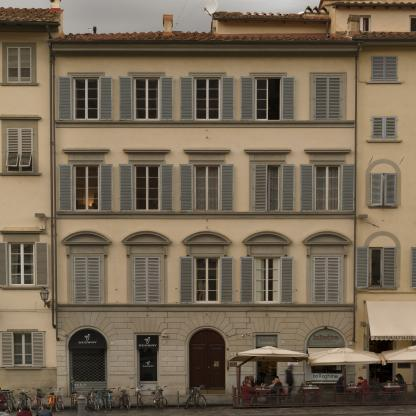Building Outline: (47, 14, 364, 398)
Cornice: (123, 232, 171, 244), (304, 232, 351, 244), (183, 232, 230, 244), (63, 232, 110, 244), (244, 232, 291, 244), (302, 149, 352, 154), (182, 149, 232, 154), (121, 149, 171, 154), (61, 149, 111, 154), (242, 149, 292, 154)
Deco: (137, 335, 159, 348)
Door: (189, 329, 226, 394)
Facade: (47, 14, 364, 398)
Floor: (55, 230, 355, 326), (55, 141, 355, 230)
Floor Slab: (55, 135, 355, 141), (55, 225, 355, 231), (56, 320, 355, 326)
Ground Floor: (56, 326, 355, 398)
Molding: (52, 47, 362, 57)
Roof: (49, 31, 364, 41)
Shop: (307, 347, 346, 394), (257, 347, 278, 394), (307, 329, 345, 347), (140, 349, 157, 382), (256, 335, 278, 346)
Sill: (54, 120, 355, 128), (56, 211, 355, 219)
Top Floor: (55, 50, 355, 141)
Window: (69, 348, 107, 397), (313, 257, 340, 303), (193, 257, 220, 303), (133, 257, 160, 303), (194, 165, 221, 211), (74, 257, 100, 303), (254, 257, 280, 303), (315, 165, 341, 211), (133, 165, 159, 211), (73, 165, 99, 211), (255, 165, 281, 211), (133, 77, 160, 120), (315, 77, 341, 120), (195, 77, 221, 120), (73, 77, 99, 120), (255, 77, 281, 120), (68, 328, 107, 348)
